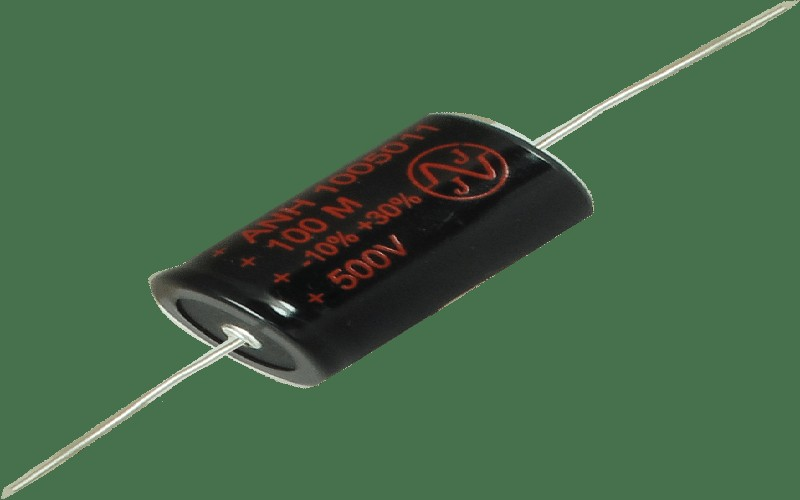Capacitor: (80, 62, 682, 445)
